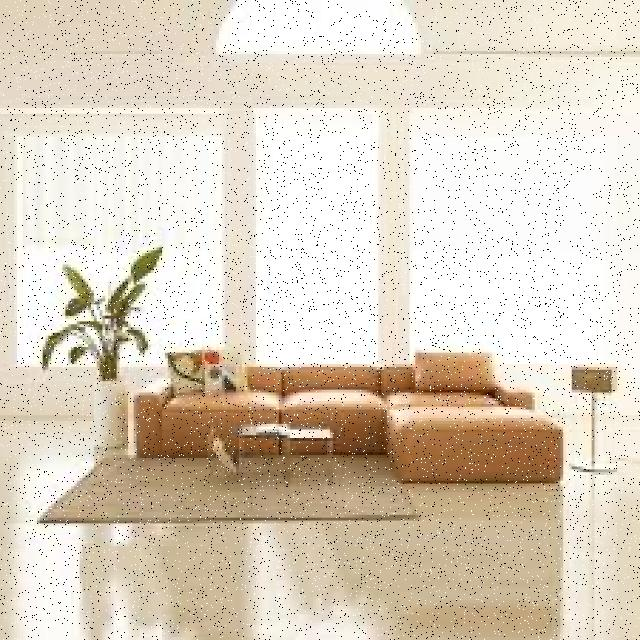Sofa: (80, 324, 594, 518)
